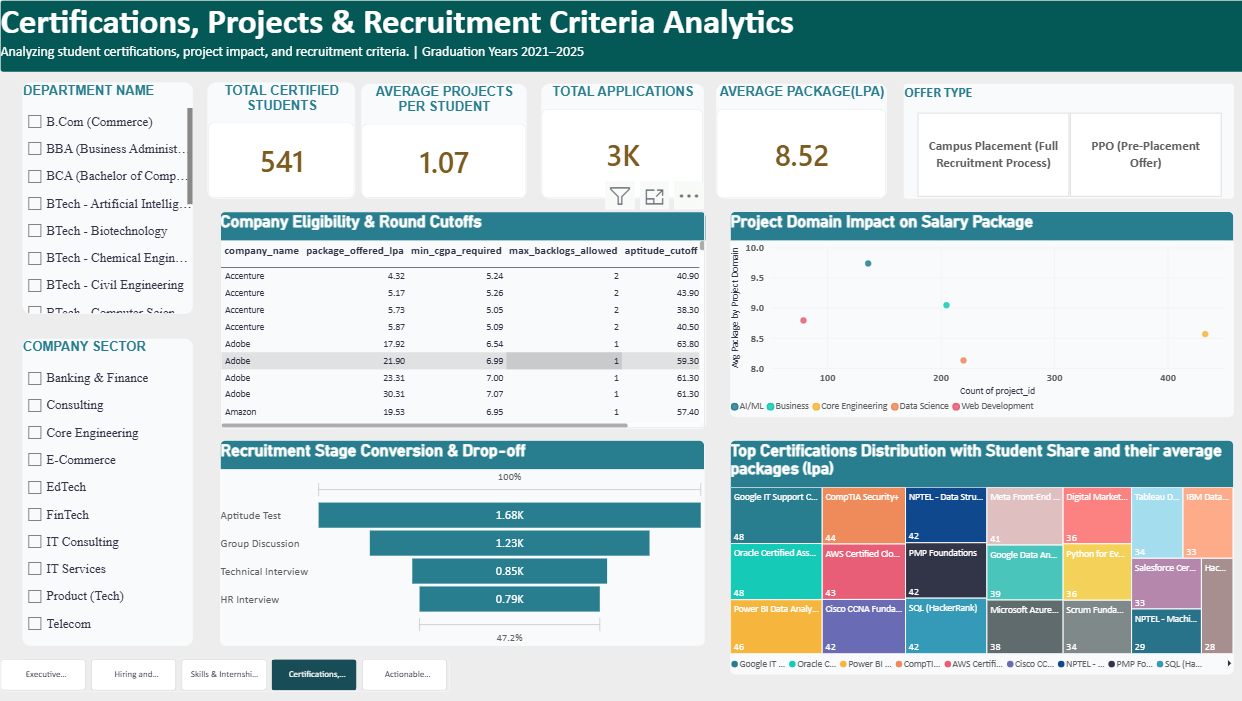

The dashboard page shown, as its layout file describes it:
{"tool":"powerbi","page":{"name":"Certifications, Projects & Recruitment Criteria Analytics","canvas":[1920,1080],"ordinal":3},"visuals":[{"type":"cardVisual","title":"TOTAL CERTIFIED STUDENTS","fields":{"Data":["_Key Measures.Total Certified Students"]},"box":[318.8,127.1,227.1,179.2],"z":0},{"type":"cardVisual","title":"AVERAGE PROJECTS PER STUDENT","fields":{"Data":["_Key Measures.Avg Projects Per Student"]},"box":[556.2,129.2,254.2,177.1],"z":1000},{"type":"cardVisual","title":"AVERAGE PACKAGE(LPA)","fields":{"Data":["_Key Measures.AvgPackage (LPA)"]},"box":[1102.1,129.2,262.5,177.1],"z":2000},{"type":"cardVisual","title":"TOTAL APPLICATIONS","fields":{"Data":["_Key Measures.Total Applications"]},"box":[833.3,129.2,250,177.1],"z":3000},{"type":"tableEx","title":"Company Eligibility & Round Cutoffs","fields":{"Values":["companies.company_name","job_requirements.package_offered_lpa","job_requirements.min_cgpa_required","job_requirements.max_backlogs_allowed","job_requirements.aptitude_cutoff","job_requirements.technical_cutoff"]},"box":[337.5,325,747.9,335.4],"z":4000},{"type":"funnel","title":"Recruitment Stage Conversion & Drop-off","fields":{"Category":["interviews.round_type"],"Y":["CountNonNull(interviews.interview_id)"]},"box":[337.5,677.1,745.8,316.7],"z":5000},{"type":"scatterChart","title":"Project Domain Impact on Salary Package","fields":{"Series":["student_projects.domain"],"X":["CountNonNull(student_projects.project_id)"],"Y":["_Key Measures.Avg Package by Project Domain"]},"box":[1122.9,325,775,316.7],"z":6000},{"type":"treemap","title":"Top Certifications Distribution with Student Share and their average packages (lpa)","fields":{"Group":["student_certifications.certification_name"],"Values":["_Key Measures.Total Certified Students"]},"box":[1122.9,677.1,775,360.4],"z":7000},{"type":"slicer","title":"DEPARTMENT NAME","fields":{"Values":["departments.department_name"]},"box":[35.4,127.1,262.5,356.2],"z":8000},{"type":"slicer","title":"COMPANY SECTOR","fields":{"Values":["companies.sector"]},"box":[35.4,520.8,262.5,472.9],"z":9000},{"type":"slicer","title":"OFFER TYPE","fields":{"Values":["placements.offer_type"]},"box":[1389.6,129.2,508.3,177.1],"z":10000},{"type":"textbox","box":[0,0,1918.9,110.8],"z":11000},{"type":"pageNavigator","box":[0,1012.5,691.7,50],"z":12000}]}

Visuals, with their boxes in screenshot pixels (x1, y1, x2, y2), scaled from the page's 1920x1080 canvas onto the 1242x701 screenshot:
"TOTAL CERTIFIED STUDENTS" cardVisual: [left=206, top=82, right=353, bottom=199]
"AVERAGE PROJECTS PER STUDENT" cardVisual: [left=360, top=84, right=524, bottom=199]
"AVERAGE PACKAGE(LPA)" cardVisual: [left=713, top=84, right=883, bottom=199]
"TOTAL APPLICATIONS" cardVisual: [left=539, top=84, right=701, bottom=199]
"Company Eligibility & Round Cutoffs" tableEx: [left=218, top=211, right=702, bottom=429]
"Recruitment Stage Conversion & Drop-off" funnel: [left=218, top=439, right=701, bottom=645]
"Project Domain Impact on Salary Package" scatterChart: [left=726, top=211, right=1228, bottom=417]
"Top Certifications Distribution with Student Share and their average packages (lpa)" treemap: [left=726, top=439, right=1228, bottom=673]
"DEPARTMENT NAME" slicer: [left=23, top=82, right=193, bottom=314]
"COMPANY SECTOR" slicer: [left=23, top=338, right=193, bottom=645]
"OFFER TYPE" slicer: [left=899, top=84, right=1228, bottom=199]
textbox: [left=0, top=0, right=1241, bottom=72]
pageNavigator: [left=0, top=657, right=447, bottom=690]
